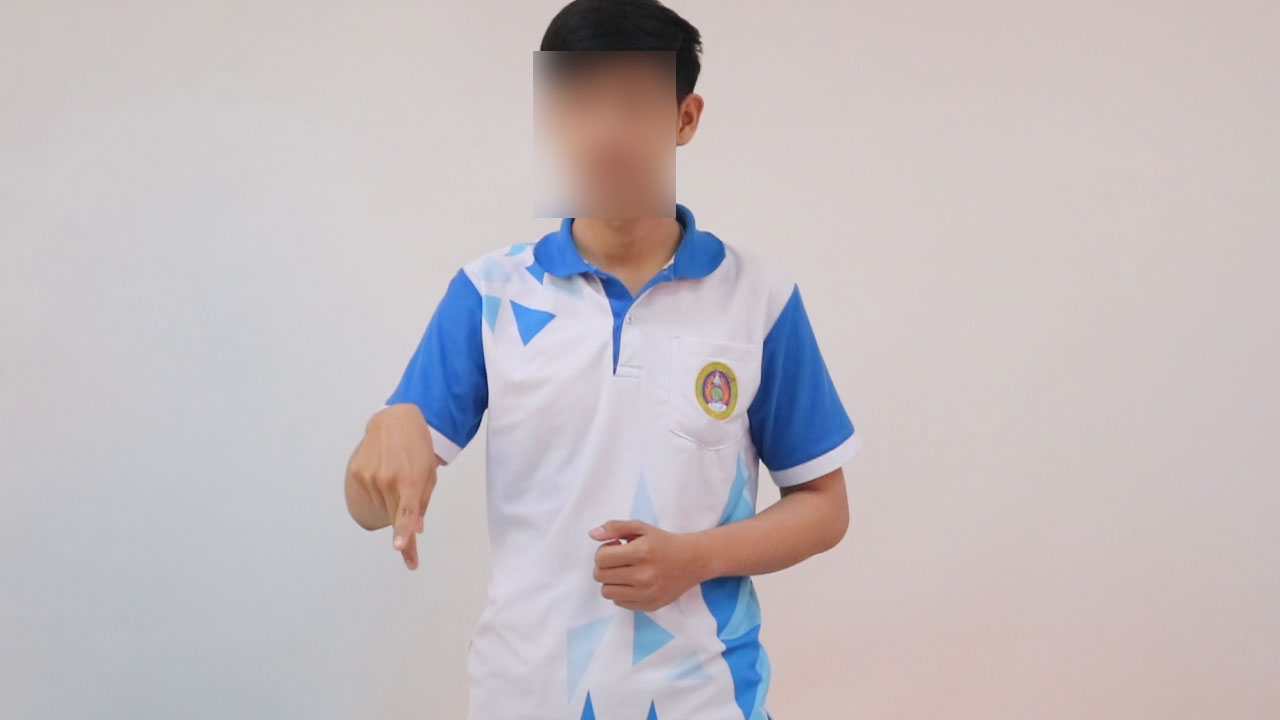por: (344, 403, 451, 587)
